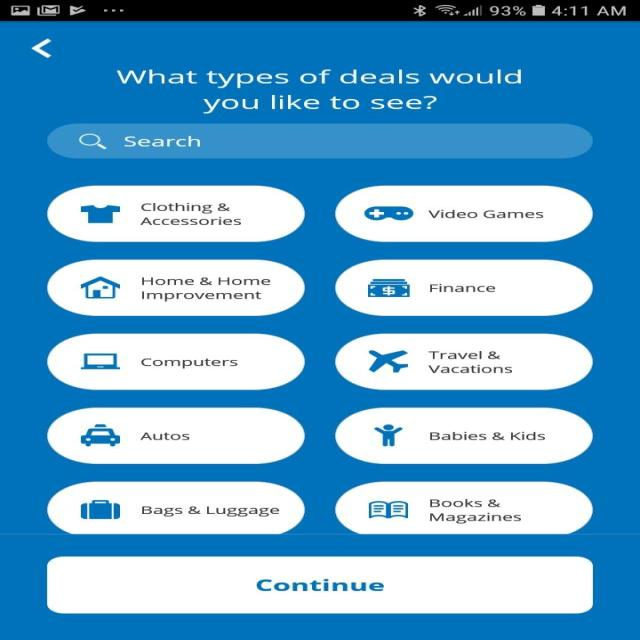EditText: (47, 123, 593, 159)
Icon: (79, 276, 119, 298), (80, 499, 121, 519), (366, 278, 409, 297), (367, 501, 408, 518), (78, 132, 108, 150), (31, 38, 52, 58)
Image: (367, 349, 408, 373), (80, 424, 121, 446), (80, 204, 121, 223), (363, 206, 413, 220), (372, 424, 402, 446), (81, 353, 121, 369)
Text: (115, 69, 521, 114), (124, 136, 200, 146)
TextButton: (46, 556, 593, 614), (45, 258, 305, 316), (46, 184, 305, 242), (46, 333, 306, 390), (333, 259, 593, 316), (334, 407, 593, 464), (334, 333, 593, 390), (334, 185, 593, 242), (46, 407, 304, 464), (46, 481, 306, 534), (333, 481, 593, 534)
